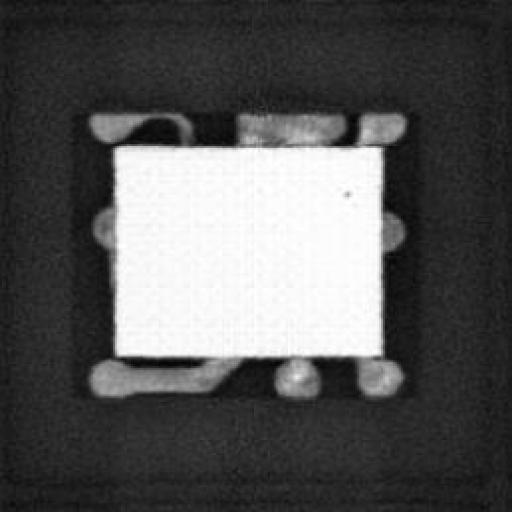DIE_INK: (338, 184, 352, 197)
